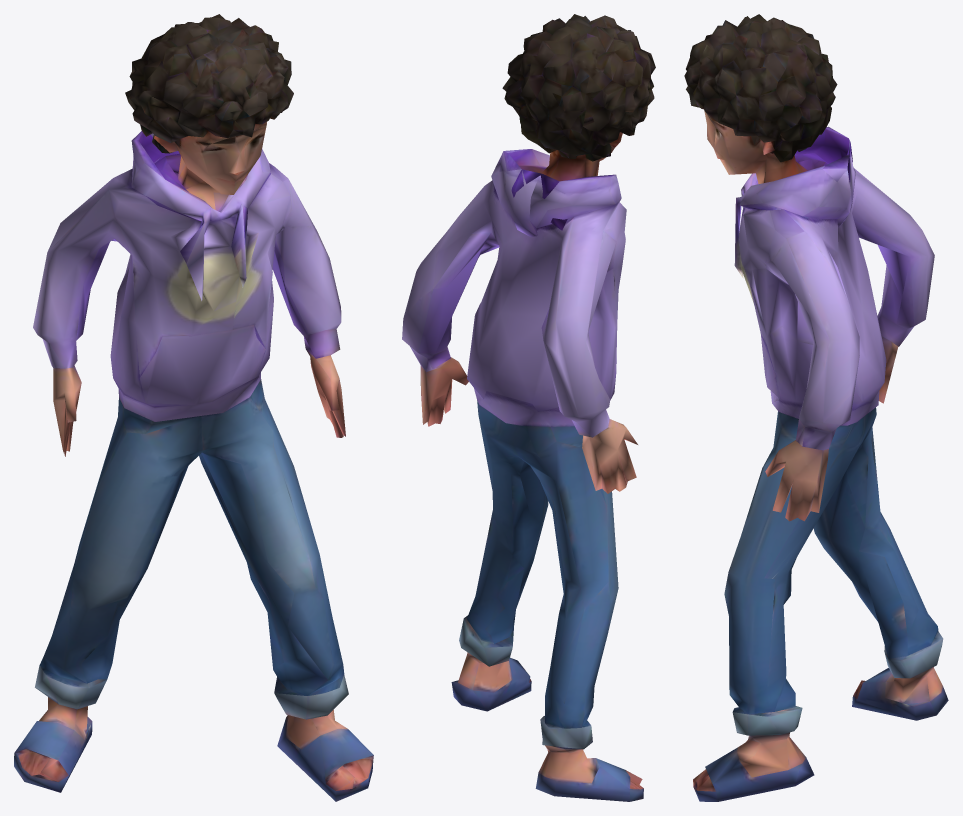
File: fan03.glb
3 views of the same model, side by side, from view 1: azimuth 30°, elevation 25°; view 2: azimuth 150°, elevation 25°; view 3: azimuth 270°, elevation 25° (orthographic). The views are drawn at different scales.
Parts seen in each view (by area): view 1: material_proxy; view 2: material_proxy; view 3: material_proxy.
Boxes of the visible parts, x1=… form: material_proxy: x1=14, y1=14, x2=373, y2=801; material_proxy: x1=402, y1=14, x2=655, y2=801; material_proxy: x1=684, y1=14, x2=948, y2=801.
Bounding box in the file's own units: 0.4438 × 1.14 × 0.3756.
1 material, 1 textured.
